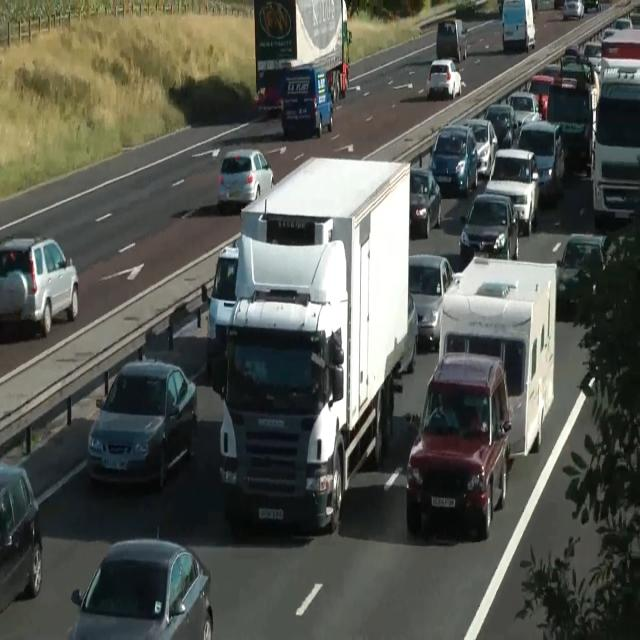bus: (68, 529, 214, 639), (86, 356, 198, 491), (0, 462, 42, 614), (555, 233, 615, 307), (408, 254, 454, 350), (459, 193, 519, 262), (217, 147, 274, 209), (599, 28, 639, 89), (409, 167, 441, 238), (463, 118, 498, 177), (394, 292, 418, 375), (483, 103, 518, 149), (426, 58, 462, 100), (506, 90, 542, 130), (527, 73, 553, 120), (582, 41, 602, 73), (563, 0, 584, 20), (612, 17, 633, 30), (582, 0, 601, 12)
jeep: (406, 350, 512, 539), (0, 233, 79, 337), (591, 80, 639, 225), (484, 147, 540, 236), (206, 244, 238, 386), (545, 78, 593, 164), (516, 119, 566, 200), (281, 65, 333, 138), (428, 124, 478, 196), (435, 18, 467, 62)
minibus: (212, 155, 412, 533), (437, 255, 557, 458), (254, 0, 352, 110), (501, 0, 535, 52)
